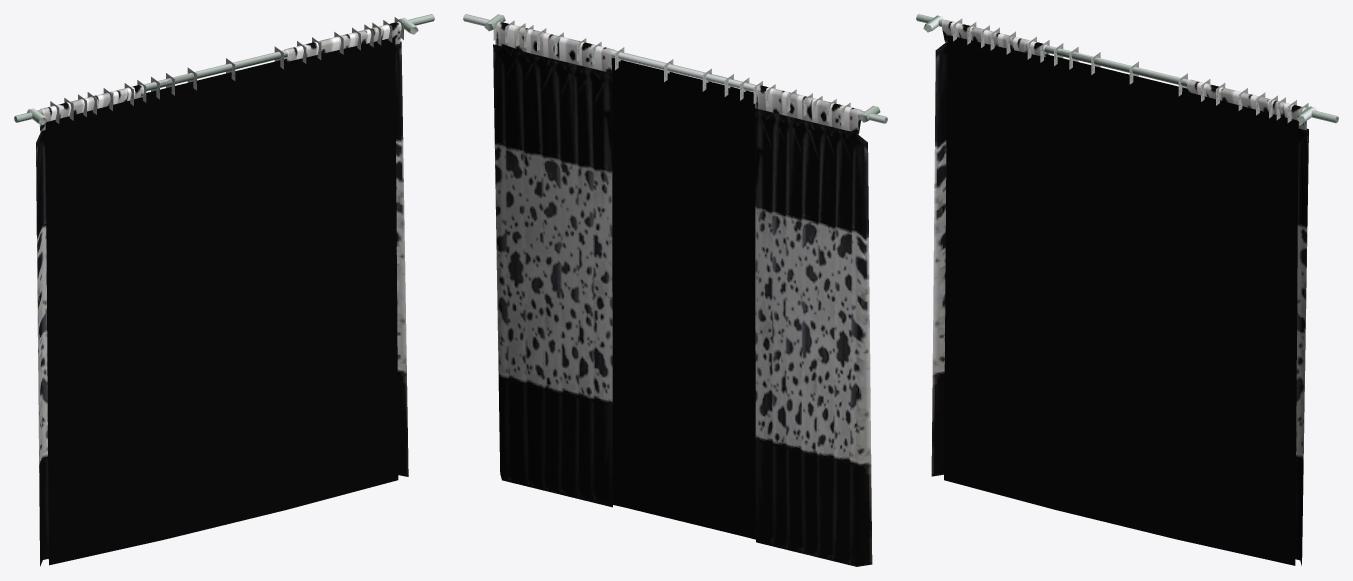
File: furni_0200151.FBX
The picture shows the model from 3 angles, left to right: view 1: azimuth 30°, elevation 25°; view 2: azimuth 150°, elevation 25°; view 3: azimuth 330°, elevation 25°; orthographic projection.
Visible parts, largest first — view 1: furni_0200151; view 2: furni_0200151; view 3: furni_0200151.
Part boxes in pixels (x1=…): furni_0200151: x1=14, y1=14, x2=434, y2=566; furni_0200151: x1=463, y1=14, x2=887, y2=566; furni_0200151: x1=916, y1=14, x2=1338, y2=565.
Bounding box in the file's own units: 209 × 218 × 11.66.
Materials: 2 (2 with a texture image).
